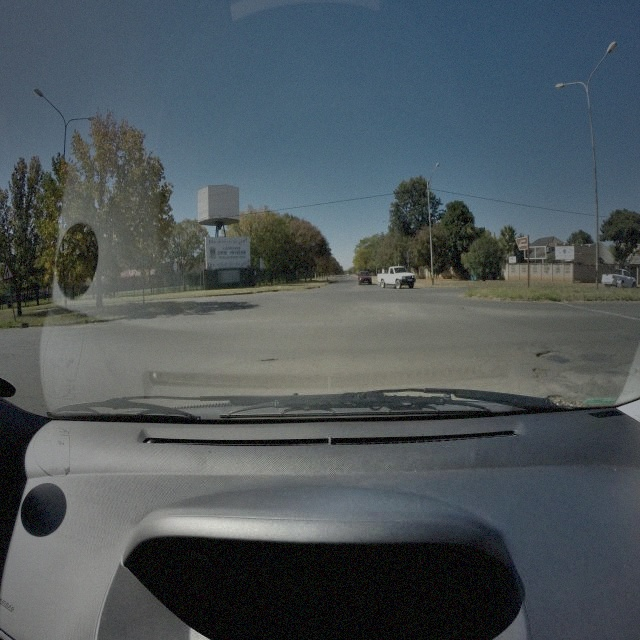pothole: (546, 393, 582, 410), (532, 367, 551, 380), (534, 349, 554, 360), (260, 356, 278, 364)
